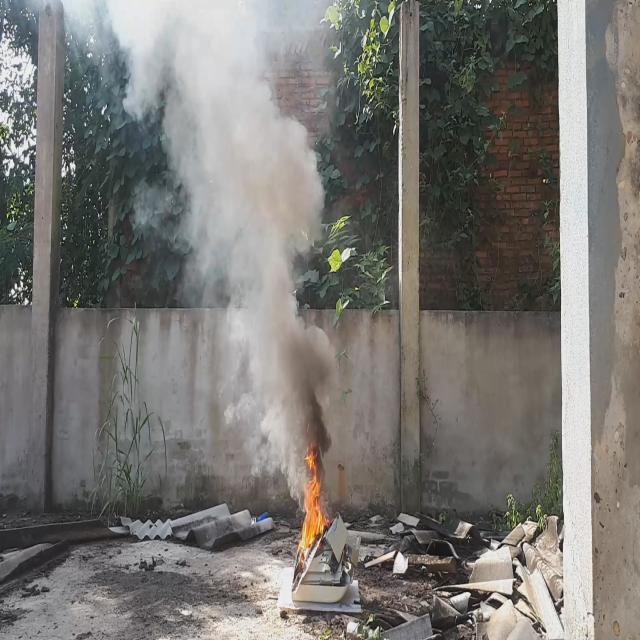Fire: (296, 438, 333, 569)
Smoke: (59, 0, 338, 498)
